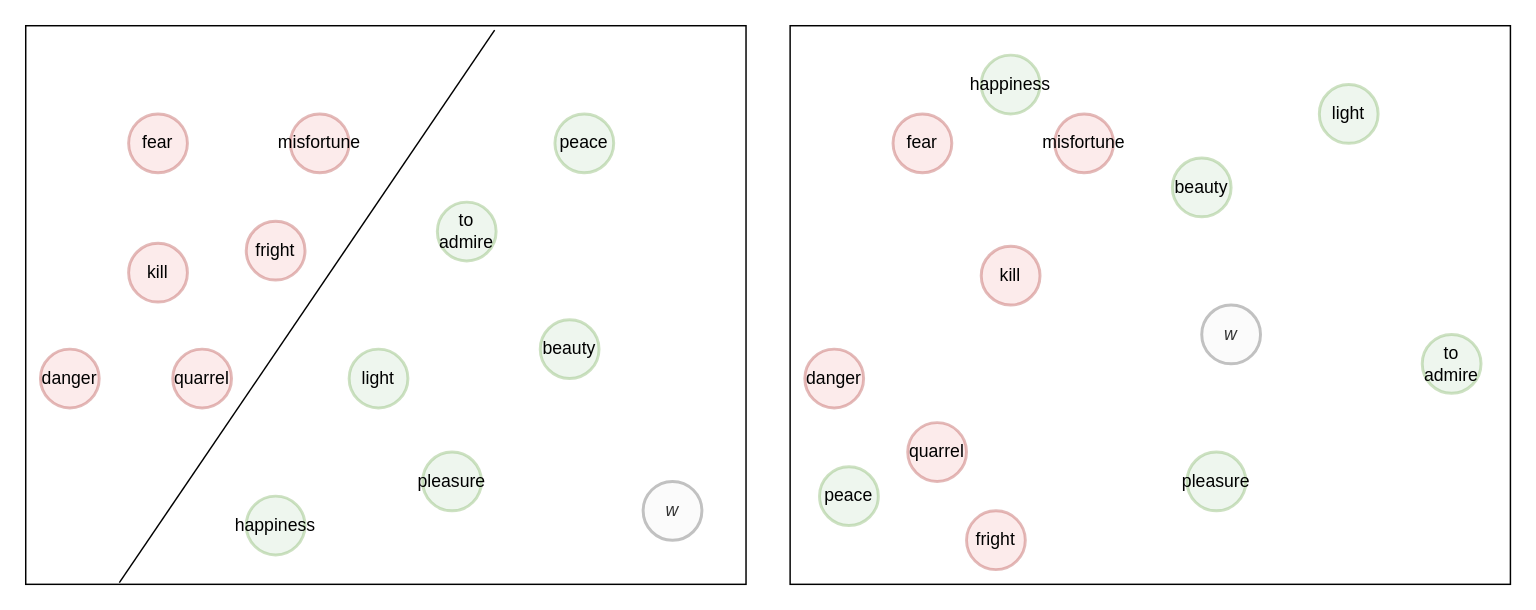
Image size: 1536x610. Some labels were removed from this diagram. Each missing label, with the box of its shape:
Expectations: (24, 24, 746, 584)
Reality ?: (789, 24, 1510, 584)
